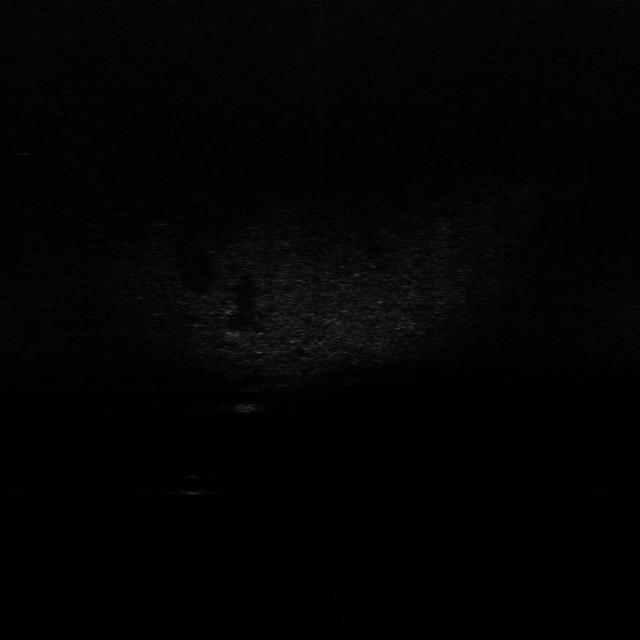ball: (238, 400, 260, 416)
cube: (233, 400, 252, 417)
